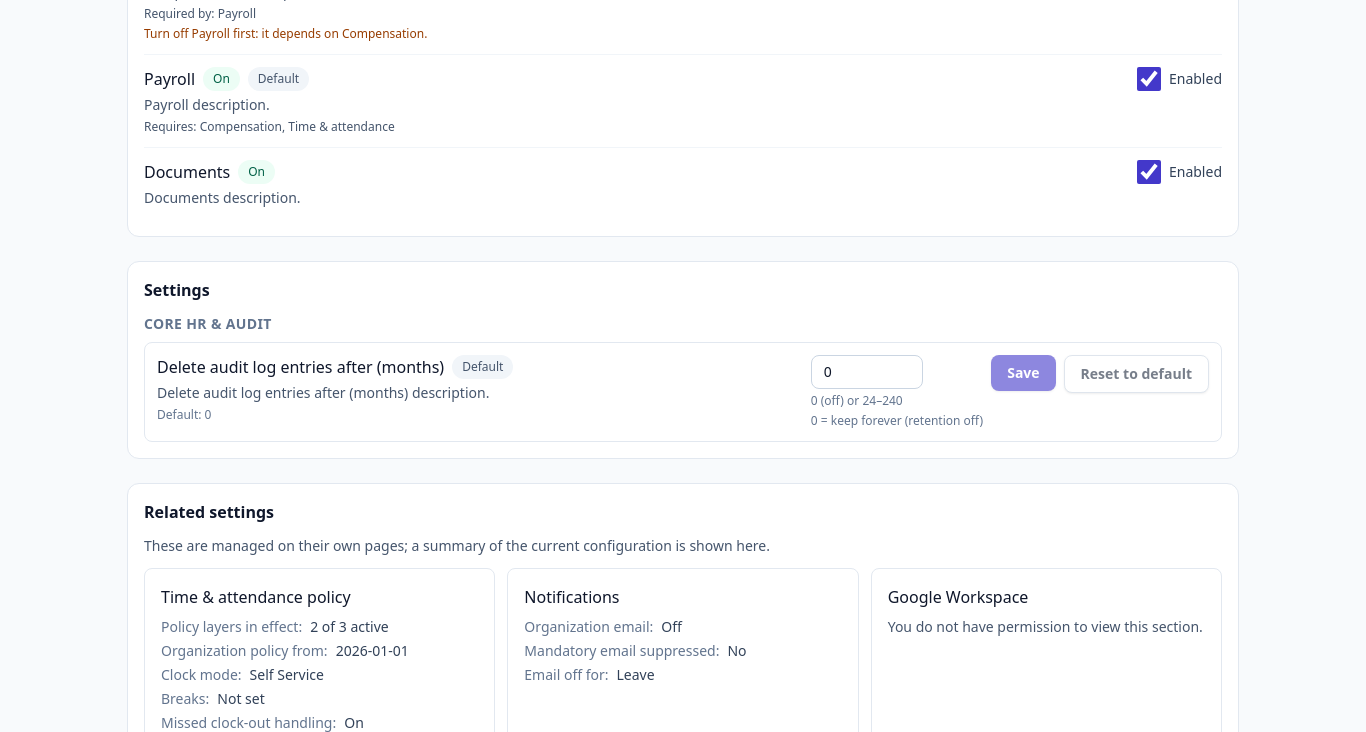
Scenario: FeaturesAdminPage › groups CORE settings and validates retention periods (0 or at least the minimum)
The width and height of the screenshot is (1366, 732).
(page scrolled)
Check: the switch named "Payroll enabled" is shown, box x1=1137 y1=67 x2=1161 y2=91
Check: the heading "Core HR & audit" is shown, box x1=144 y1=314 x2=272 y2=333
Replace the text in the number field named "Delete audit log entries after (months)" with "12": (867,372) x1=811 y1=355 x2=923 y2=389
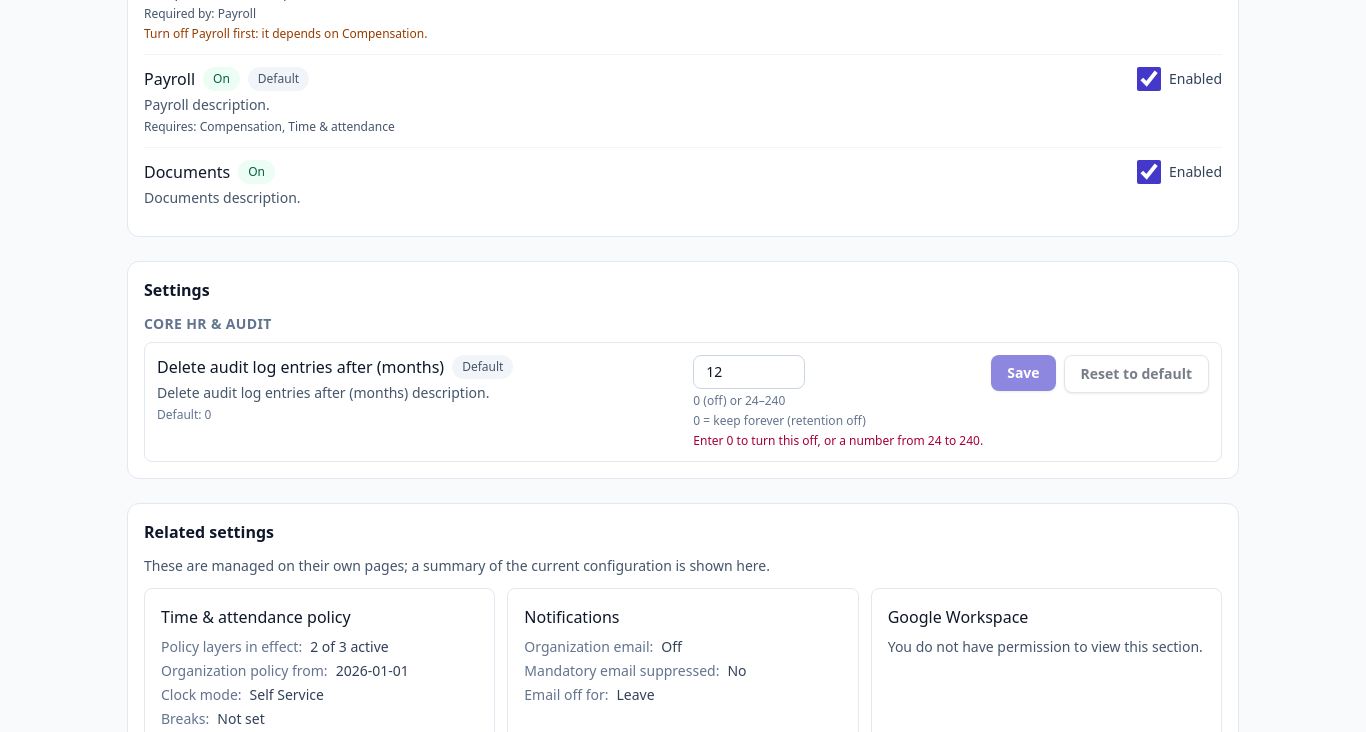
Check: the button with aria-label "Save Delete audit log entries after (months)" is disabled, box x1=991 y1=355 x2=1056 y2=391
Check: the text "Enter 0 to turn this off, or a number from 24 to 240." is shown, box x1=693 y1=433 x2=983 y2=449
Replace the text in the number field named "Delete audit log entries after (months)" with "300": (749,372) x1=693 y1=355 x2=805 y2=389
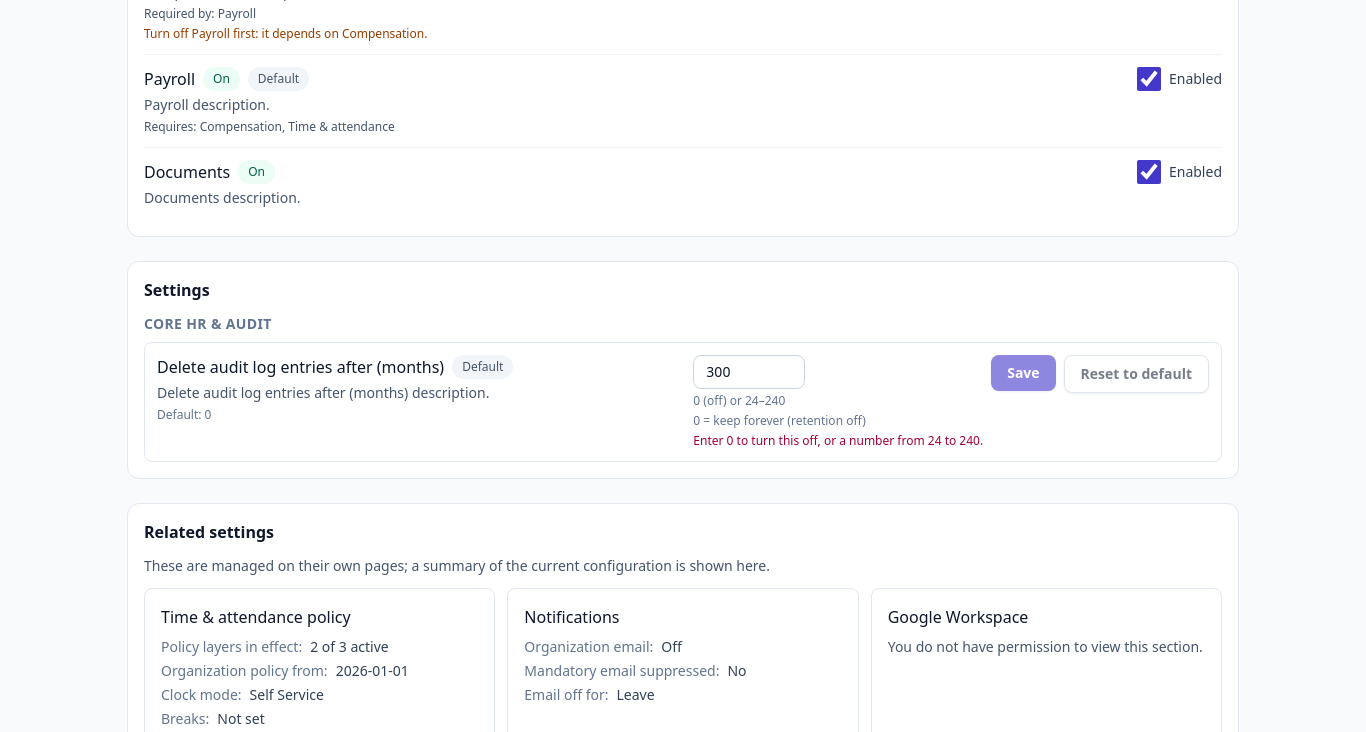
Check: the button with aria-label "Save Delete audit log entries after (months)" is disabled, box x1=991 y1=355 x2=1056 y2=391
Replace the text in the number field named "Delete audit log entries after (months)" with "36": (749,372) x1=693 y1=355 x2=805 y2=389
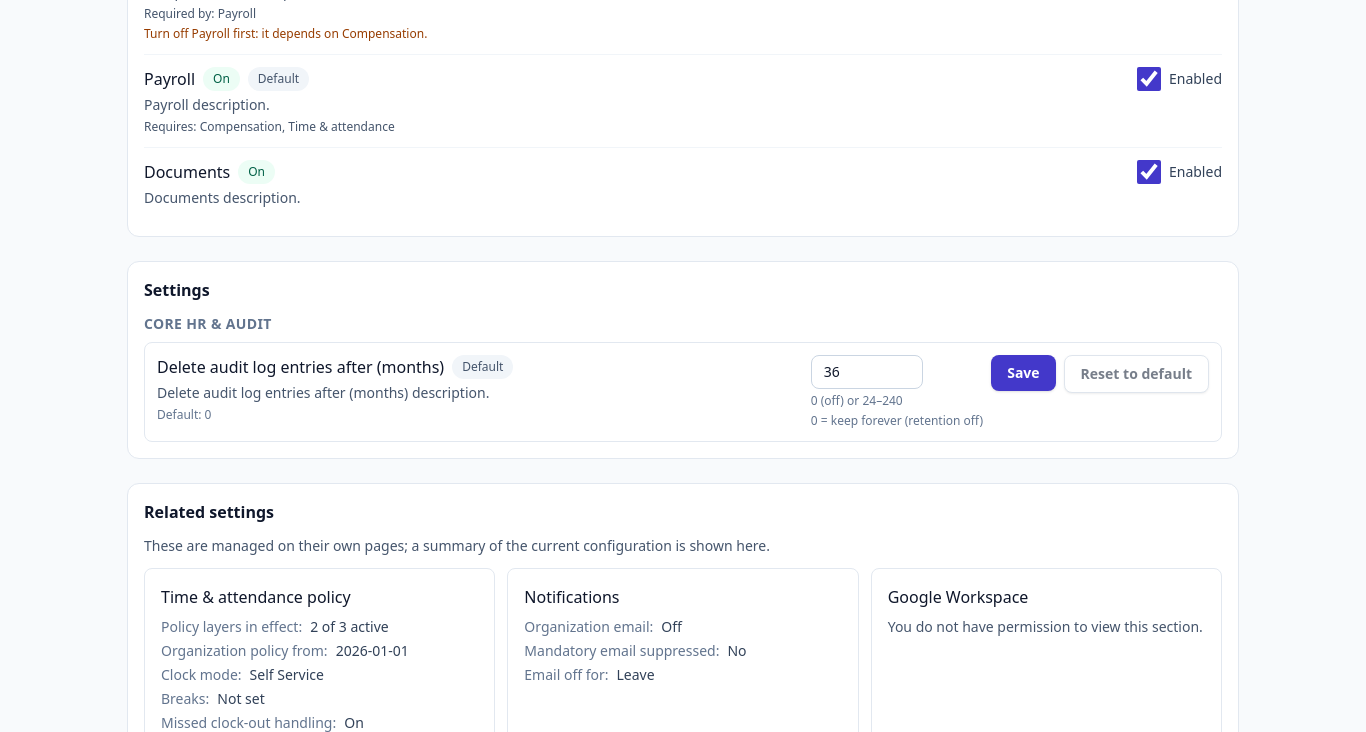
Check: the message "Enter 0 to turn this off, or a number from 24 to 240." is gone
Click the button with aria-label "Save Delete audit log entries after (months)": (1023,373) x1=991 y1=355 x2=1056 y2=391
(page scrolled)
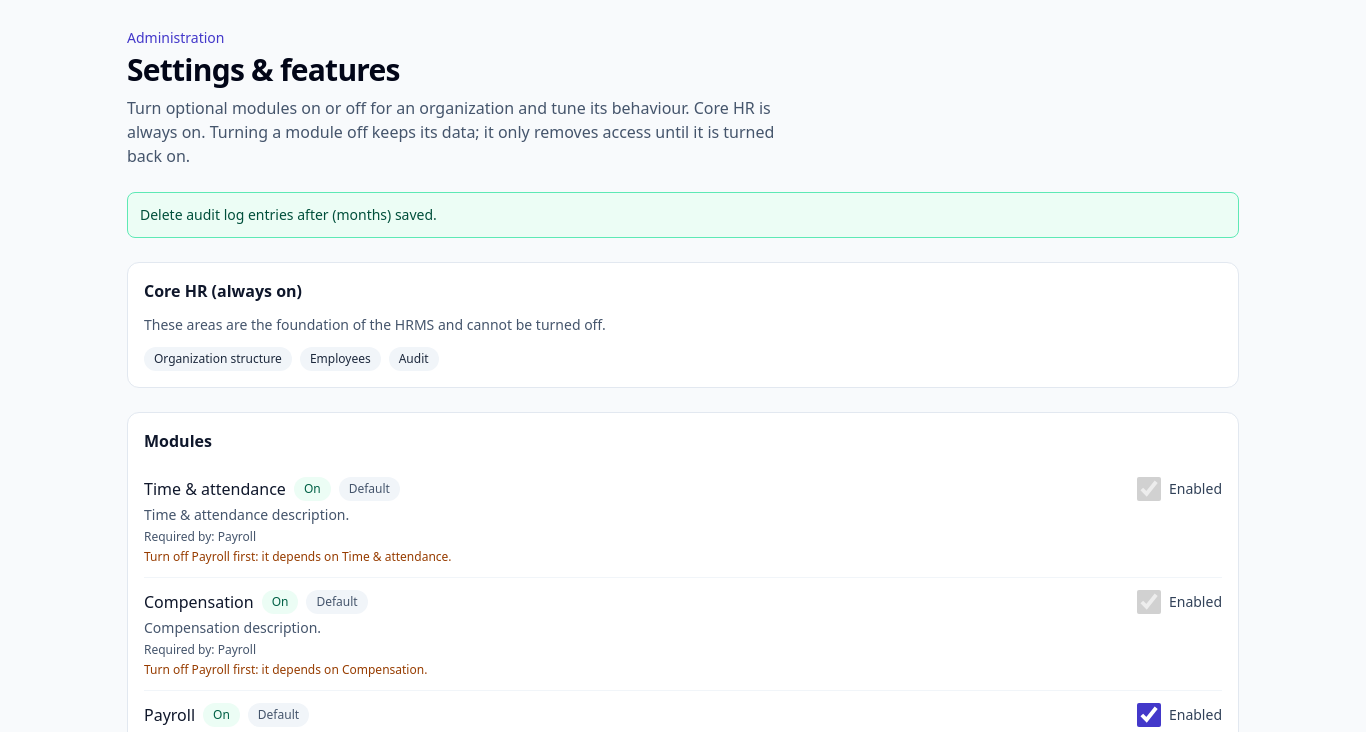
Check: the text "Delete audit log entries after (months) saved." is shown, box x1=127 y1=192 x2=1239 y2=238
